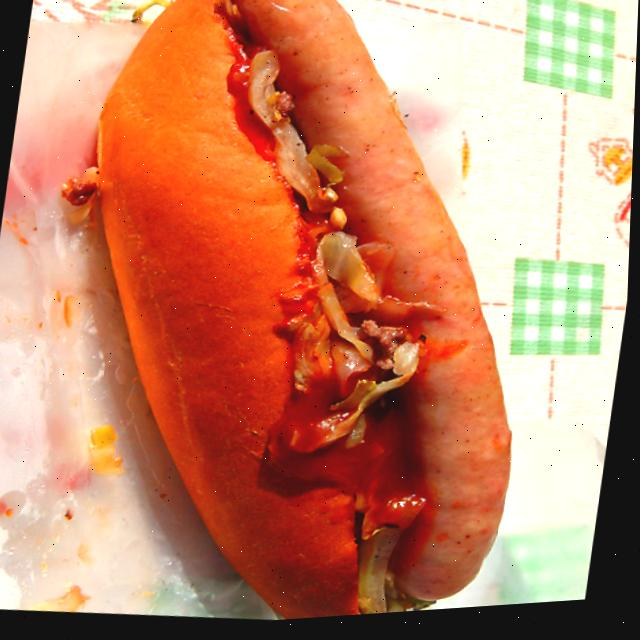汉堡快餐: (34, 0, 584, 637)
